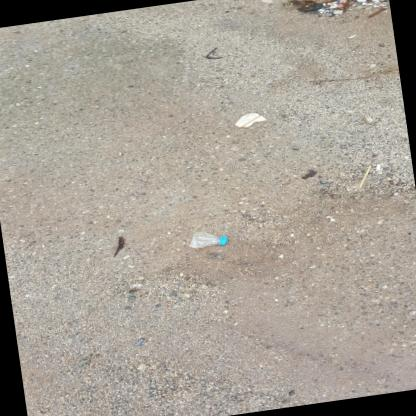Paper: (348, 34, 356, 38)
Plastic: (189, 231, 227, 248), (235, 112, 267, 127), (336, 0, 346, 9), (221, 236, 227, 244)
Waste: (297, 3, 323, 11)
